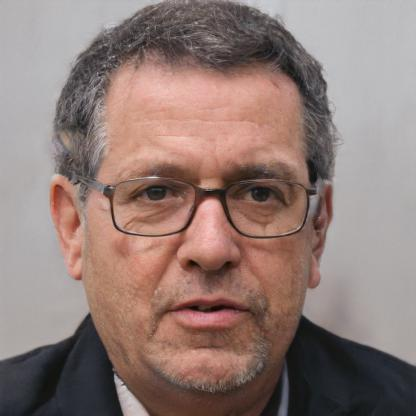glasses: (89, 171, 318, 245)
